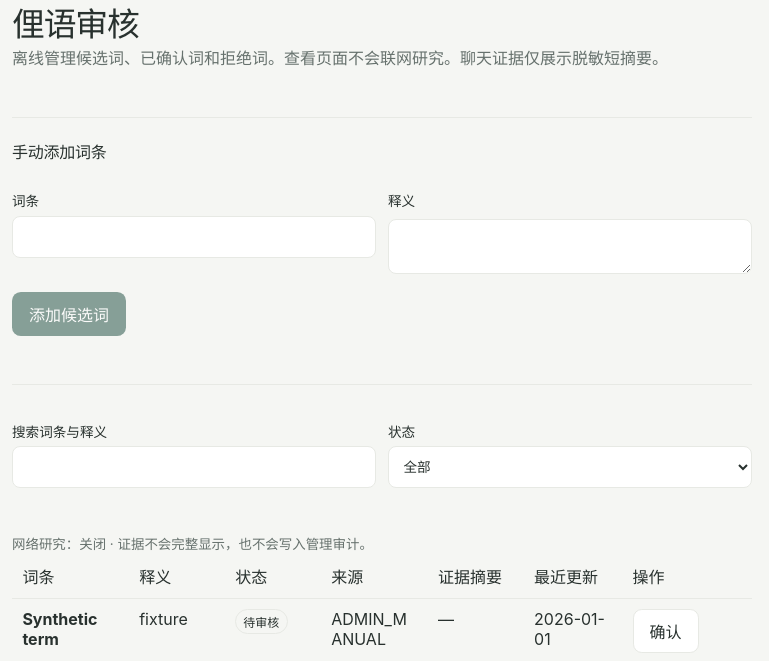
Test: reloads the current filter when a moderation mutation completes after the filter changes
This screenshot has width=769, height=661.
Step 1. Select "待审核" in the dropdown labelled "状态" → x=570, y=467, box [388,446,752,488]
(page scrolled)
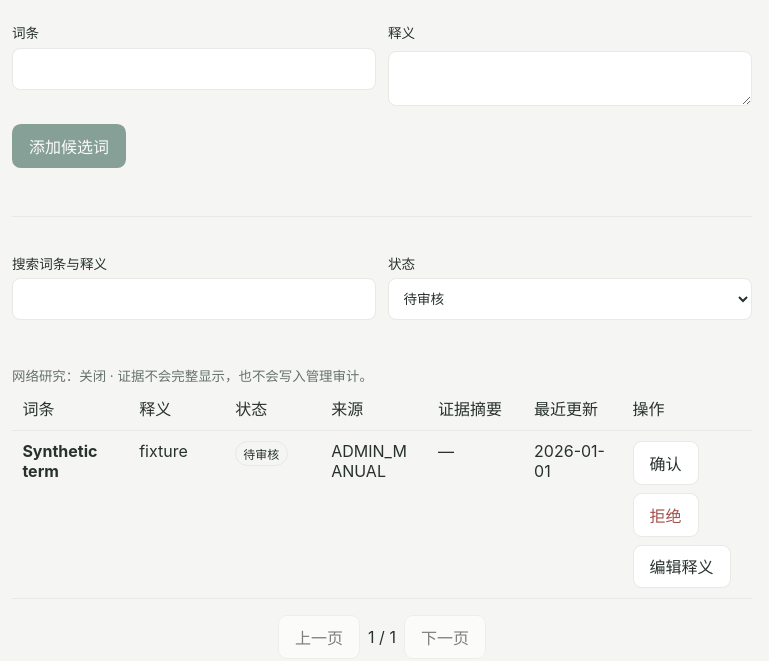
Step 2. Click the button "拒绝" → x=666, y=515, box [632,493,698,536]
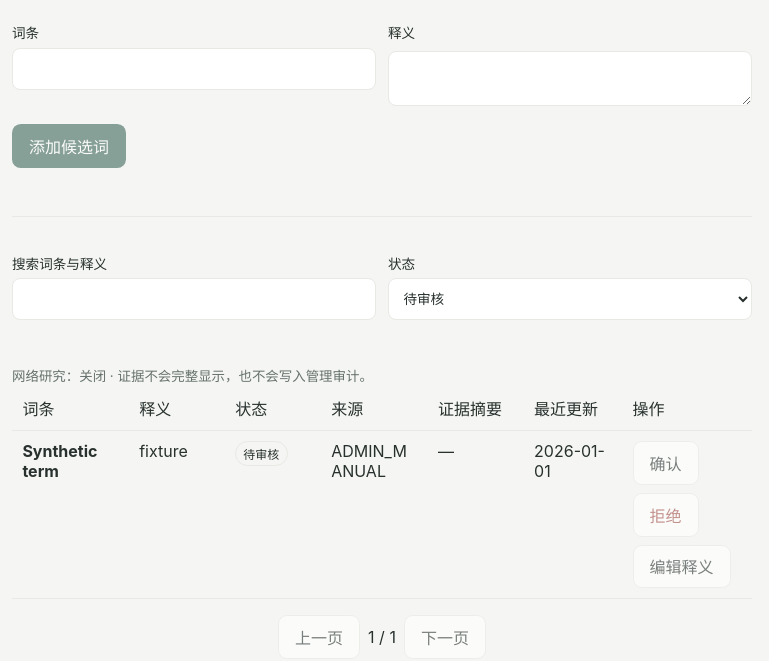
Step 3. Select "已拒绝" in the dropdown labelled "状态" → x=570, y=299, box [388,278,752,320]
(page scrolled)
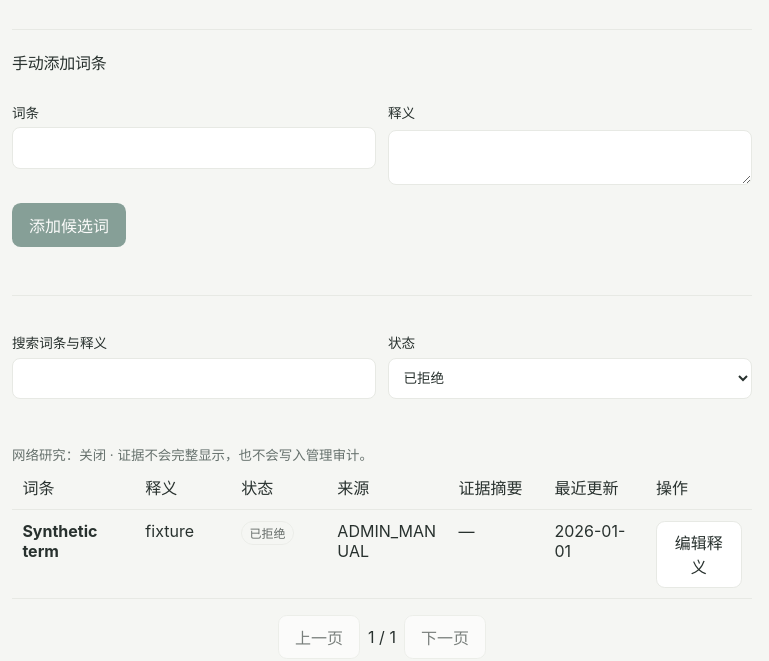
Check: the row "Synthetic term fixture 已拒绝 ADMIN_MANUAL — 2026-01-01 编辑释义" is shown, box [12,510,752,599]
